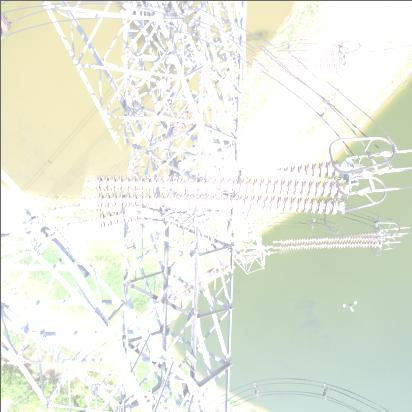insulator: (82, 148, 348, 240), (273, 229, 382, 259), (253, 47, 348, 81)
